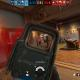Friend_label: (63, 42, 68, 45), (65, 42, 69, 45)
